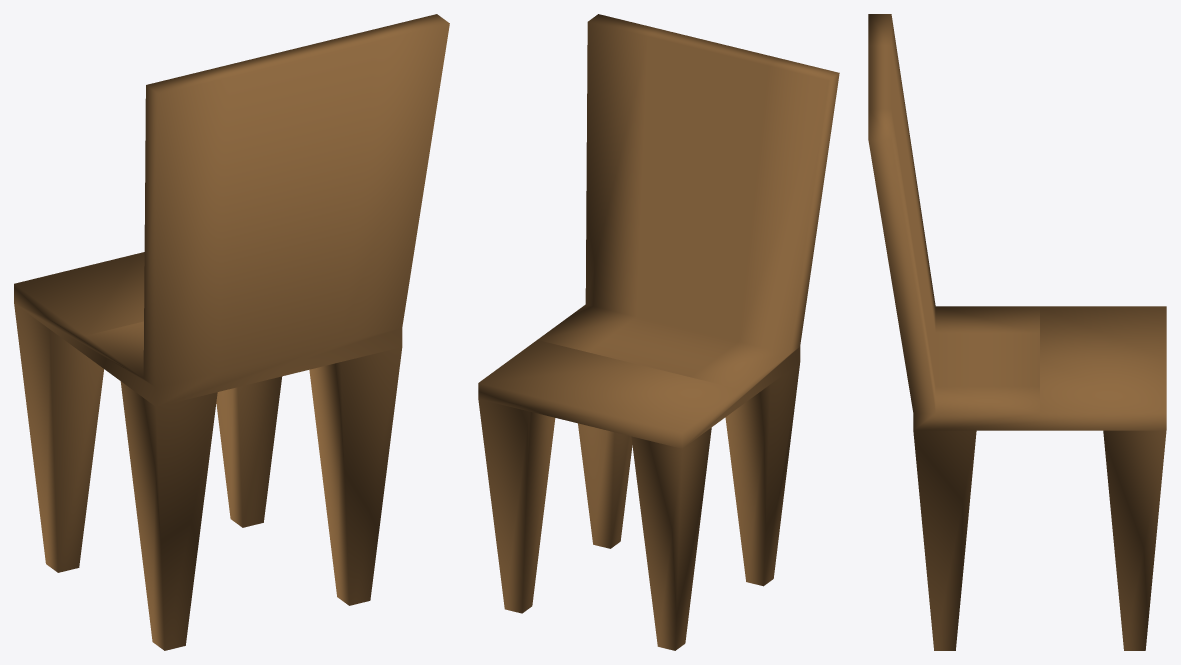
File: Chair.fbx
3 renders of one model, left to right at view 1: azimuth 30°, elevation 25°; view 2: azimuth 150°, elevation 25°; view 3: azimuth 270°, elevation 25°, orthographic. The views are drawn at different scales.
Parts seen in each view (by area): view 1: Chair; view 2: Chair; view 3: Chair.
Part boxes in pixels (<box>): Chair: <box>14,14,449,650</box>; Chair: <box>478,14,839,650</box>; Chair: <box>868,14,1166,650</box>.
Size of the model in its own units: 236 by 461 by 235.
